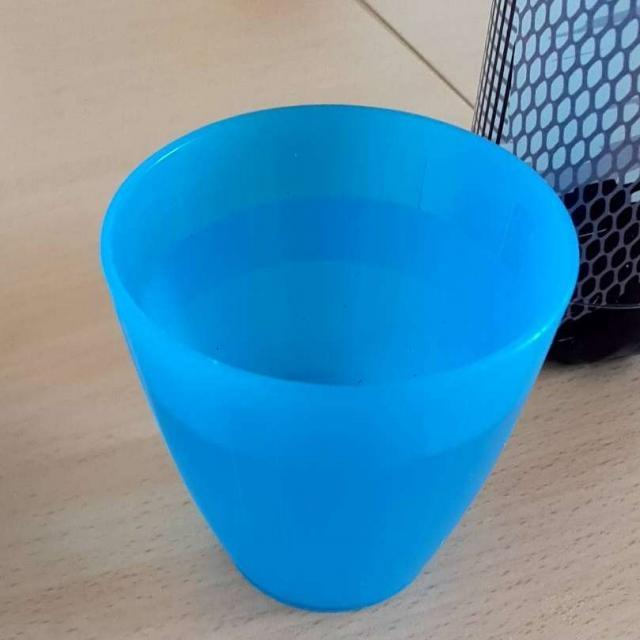water: (138, 180, 561, 595)
